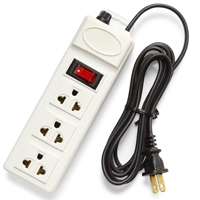Three_eye_plug: (3, 1, 193, 197)
